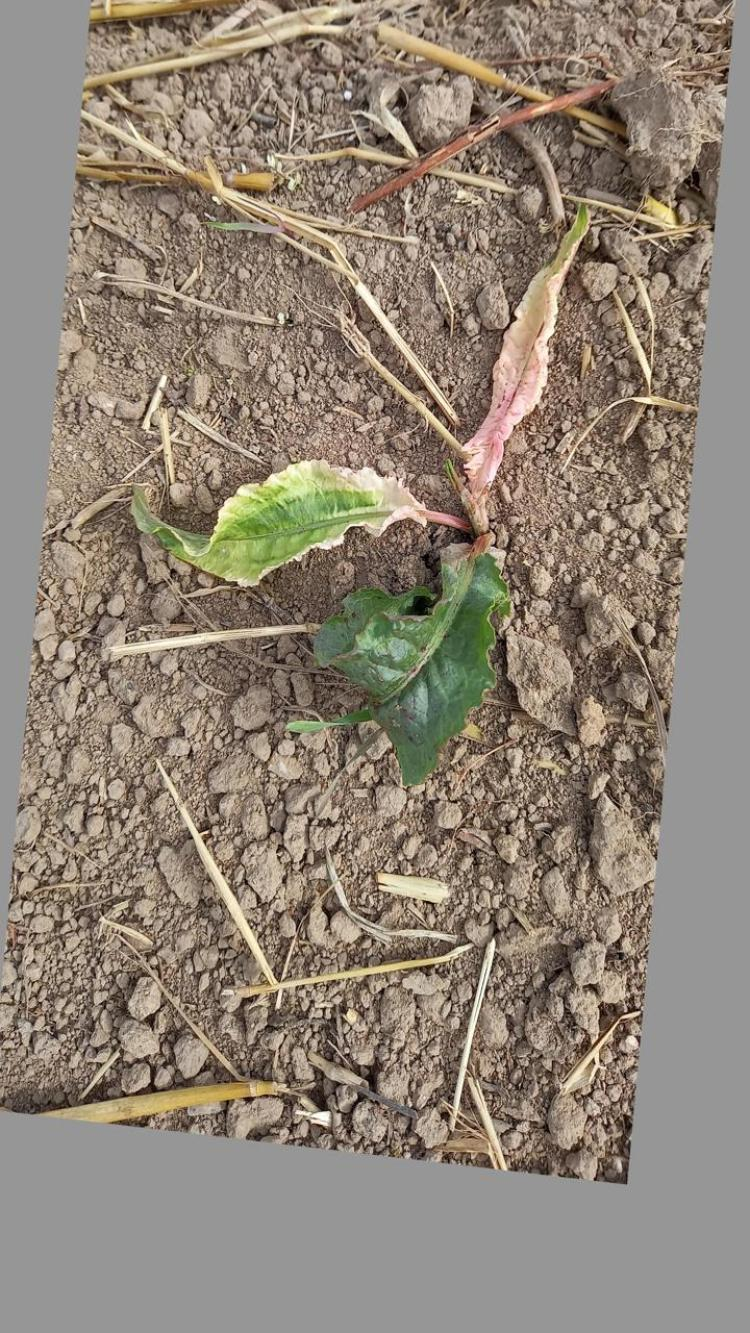zhavel: (129, 208, 596, 789)
